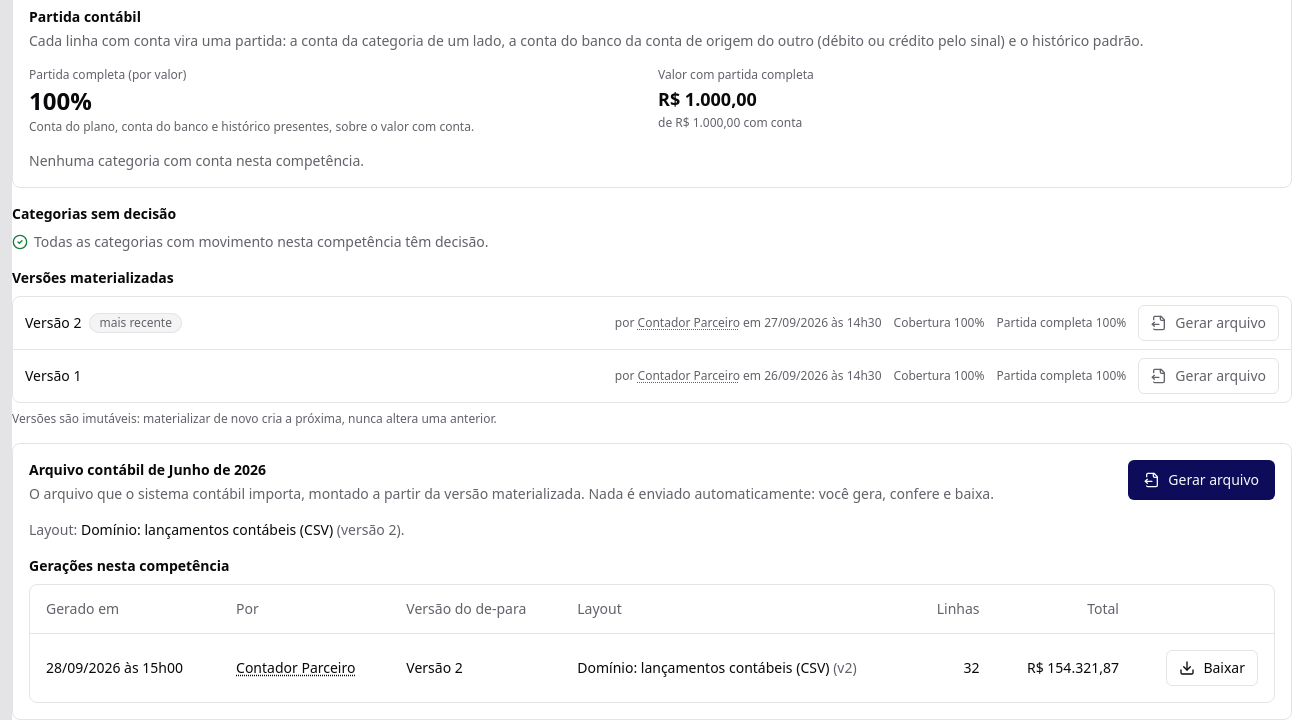
Scenario: recusas 409 como ESTADO, nunca toast › texto que não cabe: categoria, campo e motivo legível
This screenshot has width=1292, height=720.
(page scrolled)
Click the button "Gerar arquivo" in the row of "Arquivo contábil de".
click(1202, 480)  # box left=1128, top=460, right=1275, bottom=500
(page scrolled)
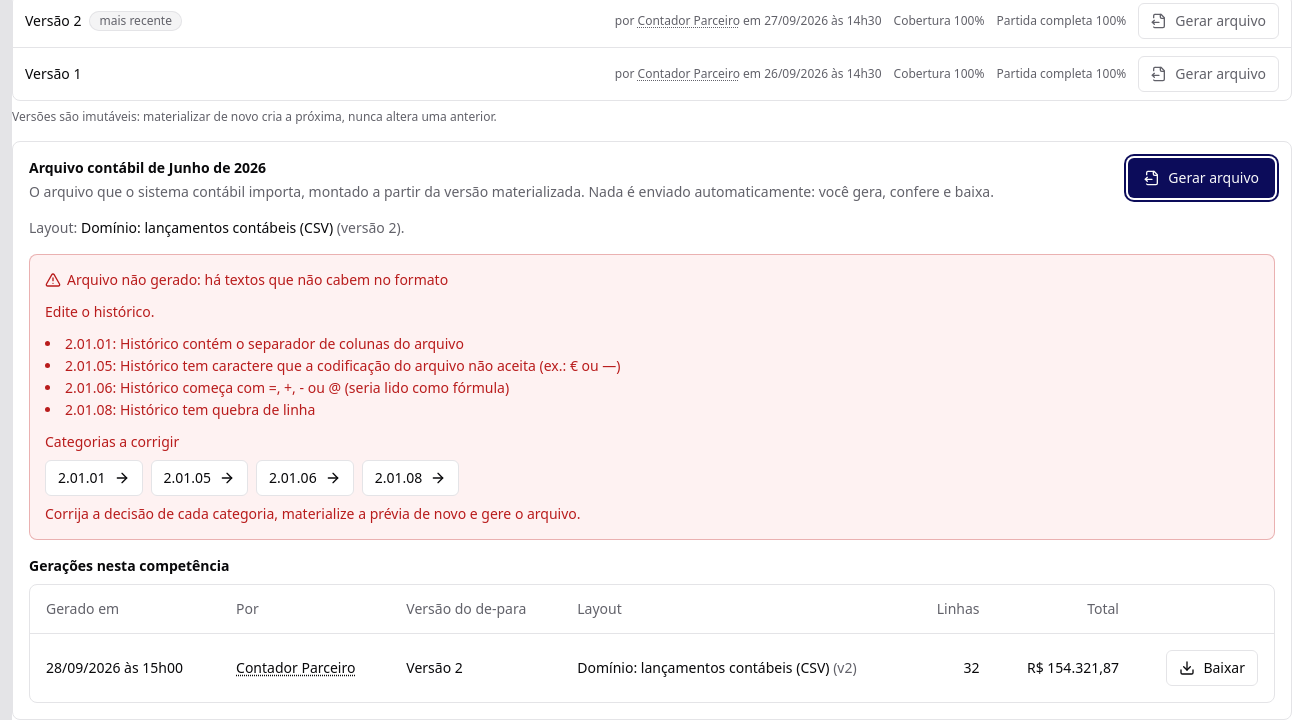
Expected: the list named "Textos que não cabem" shows "2.01.01: Histórico contém o separador de colunas", left=65, top=334, right=620, bottom=419
Expected: the list named "Textos que não cabem" shows "2.01.05: Histórico tem caractere que a codificação", left=65, top=334, right=620, bottom=419
Expected: the list named "Textos que não cabem" shows "2.01.06: Histórico começa com =, +, - ou @", left=65, top=334, right=620, bottom=419
